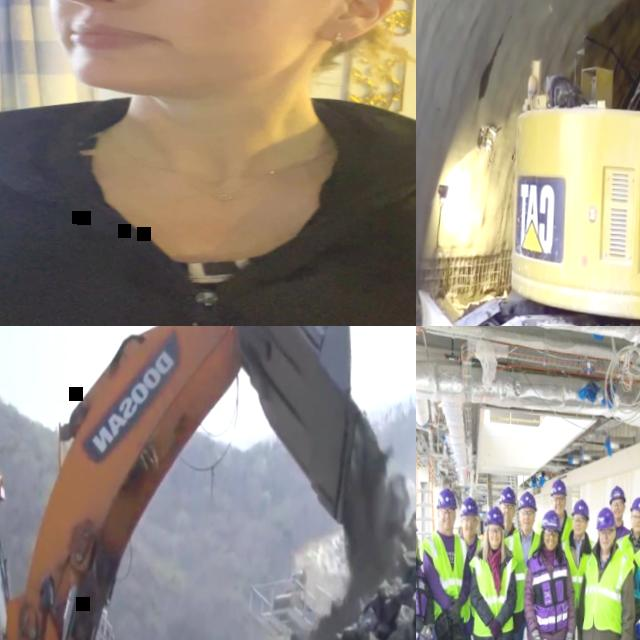Hardhat: (481, 504, 505, 554), (595, 507, 615, 532), (435, 488, 457, 509), (459, 497, 481, 518), (483, 505, 505, 526), (540, 509, 561, 531), (516, 491, 536, 512), (570, 499, 589, 521), (497, 486, 517, 506), (607, 485, 626, 506), (548, 476, 566, 497), (628, 495, 640, 517)
NO-Mask: (48, 0, 367, 102), (598, 538, 613, 551), (437, 520, 453, 532), (541, 539, 555, 551), (518, 520, 532, 532), (571, 523, 583, 536), (551, 503, 564, 515), (487, 537, 500, 549), (611, 509, 623, 520), (461, 527, 473, 538), (629, 522, 640, 532), (502, 515, 512, 524)
NO-Safety Vest: (0, 137, 416, 326)
Person: (0, 0, 416, 326), (569, 504, 638, 640), (416, 486, 474, 640), (516, 506, 581, 640), (462, 503, 519, 640), (494, 489, 544, 640), (448, 497, 499, 640), (553, 497, 599, 640), (478, 484, 520, 640), (608, 493, 640, 640), (535, 476, 575, 547), (605, 483, 631, 542)
Safety Vest: (416, 530, 471, 623), (465, 545, 516, 638), (581, 545, 635, 631), (523, 547, 571, 635), (501, 529, 540, 615), (558, 537, 597, 609), (454, 530, 483, 616), (536, 516, 572, 550), (416, 556, 429, 640), (613, 532, 640, 560), (502, 525, 519, 551), (614, 527, 629, 541)
vehicle: (0, 326, 391, 640), (416, 0, 640, 326)
